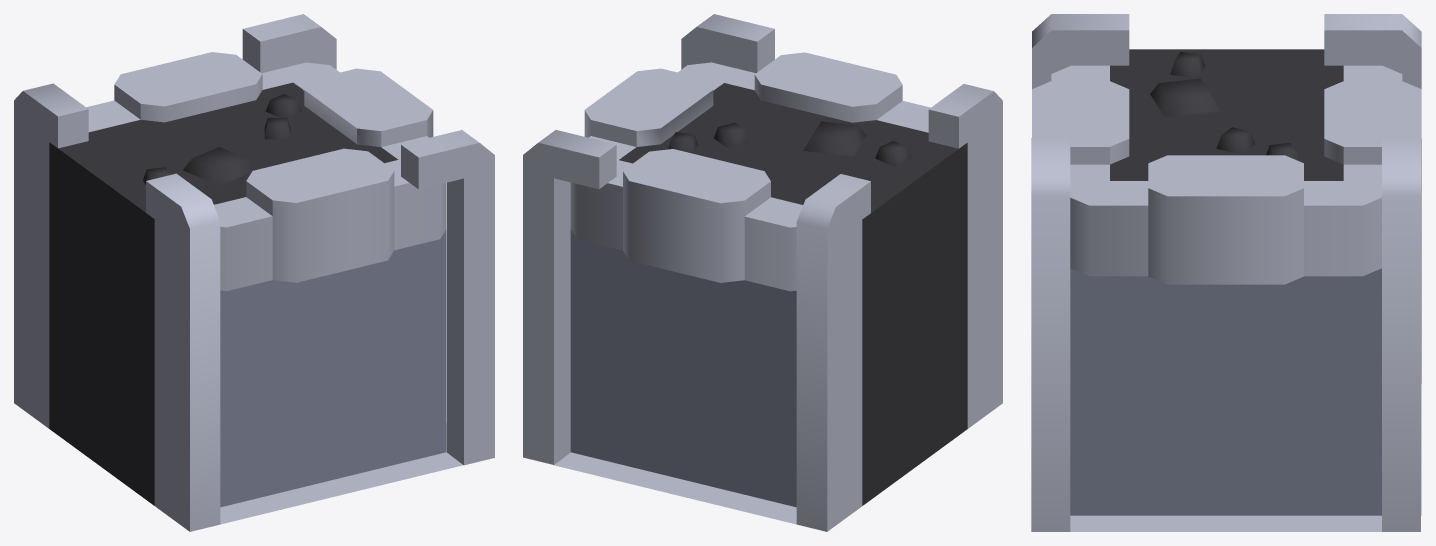
Rendered from 3Sided-Wall.glb.
3 views of the same model, side by side, from view 1: azimuth 30°, elevation 25°; view 2: azimuth 150°, elevation 25°; view 3: azimuth 270°, elevation 25° (orthographic). The views are drawn at different scales.
Visible parts, largest first — view 1: wall-narrow; view 2: wall-narrow; view 3: wall-narrow.
Boxes of the visible parts, x1,y1,x2,y2 form: wall-narrow: [14, 14, 494, 531]; wall-narrow: [523, 14, 1002, 531]; wall-narrow: [1031, 14, 1421, 531].
Size of the model in its own units: 0.9998 by 1 by 1.
